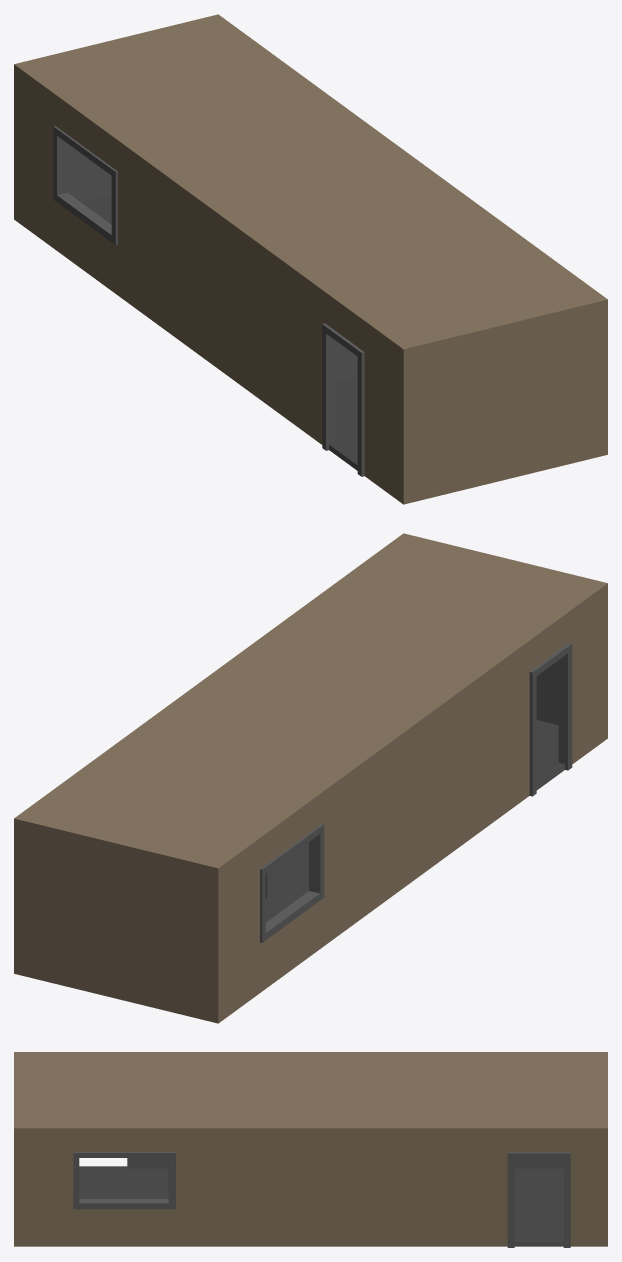
Rendered from SmallLargeBuilding1-2.fbx.
3 renders of one model, top to bottom at view 1: azimuth 30°, elevation 25°; view 2: azimuth 150°, elevation 25°; view 3: azimuth 270°, elevation 25°, orthographic. The views are drawn at different scales.
Parts seen in each view (by area): view 1: SmallLargeBuilding1.001_LOD0; view 2: SmallLargeBuilding1.001_LOD0; view 3: SmallLargeBuilding1.001_LOD0.
Part boxes in pixels (bbox=[...]): SmallLargeBuilding1.001_LOD0: bbox=[14, 14, 607, 504]; SmallLargeBuilding1.001_LOD0: bbox=[14, 533, 607, 1023]; SmallLargeBuilding1.001_LOD0: bbox=[14, 1052, 607, 1247].
Size of what is drawn, in the model's own units: 782 by 550 by 2503.
Materials: 1 (1 with a texture image).
